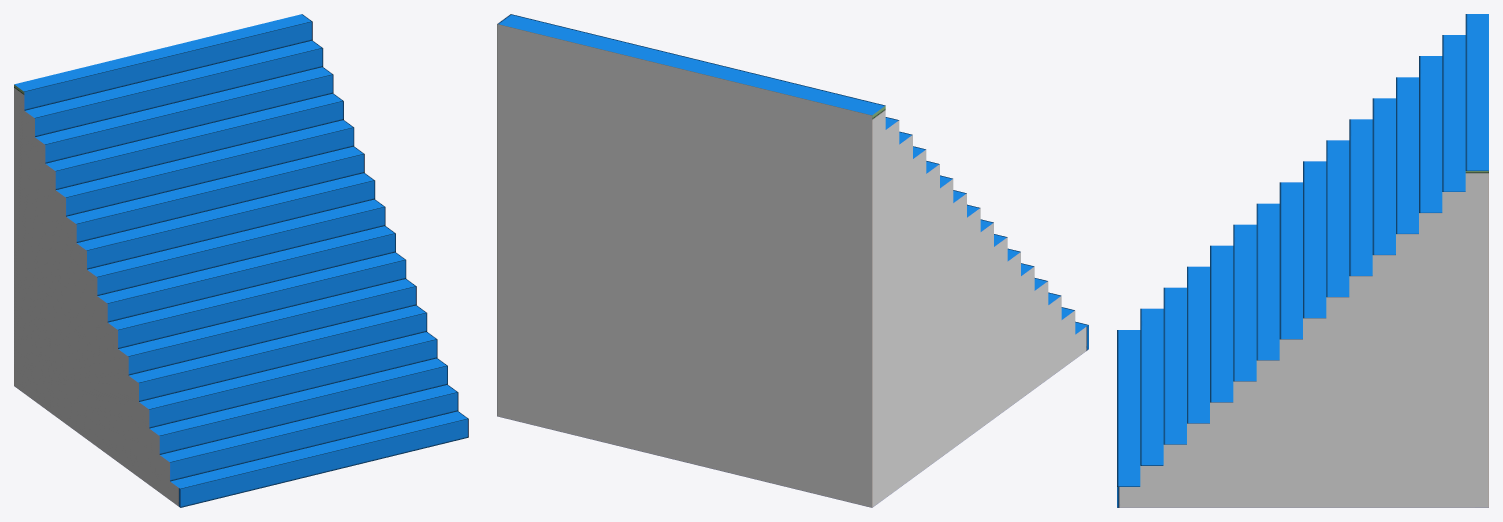
File: MK_Stairs_Trim_D_Wall_A.fbx
3 renders of one model, left to right at view 1: azimuth 30°, elevation 25°; view 2: azimuth 150°, elevation 25°; view 3: azimuth 270°, elevation 25°, orthographic. The views are drawn at different scales.
Parts seen in each view (by area): view 1: Stairs_Trim_D_Wall_A; view 2: Stairs_Trim_D_Wall_A; view 3: Stairs_Trim_D_Wall_A.
Part boxes in pixels (x1=…): Stairs_Trim_D_Wall_A: x1=14, y1=14, x2=468, y2=507; Stairs_Trim_D_Wall_A: x1=497, y1=14, x2=1088, y2=507; Stairs_Trim_D_Wall_A: x1=1117, y1=14, x2=1488, y2=507.
Bounding box in the file's own units: 180 × 180 × 180.
1 material, 1 textured.
